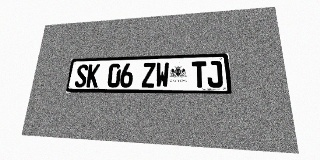0: (107, 63, 121, 87)
6: (119, 63, 134, 87)
J: (207, 61, 223, 88)
K: (86, 64, 100, 87)
S: (74, 64, 89, 87)
T: (192, 61, 207, 88)
W: (155, 62, 169, 88)
Z: (141, 62, 155, 88)
